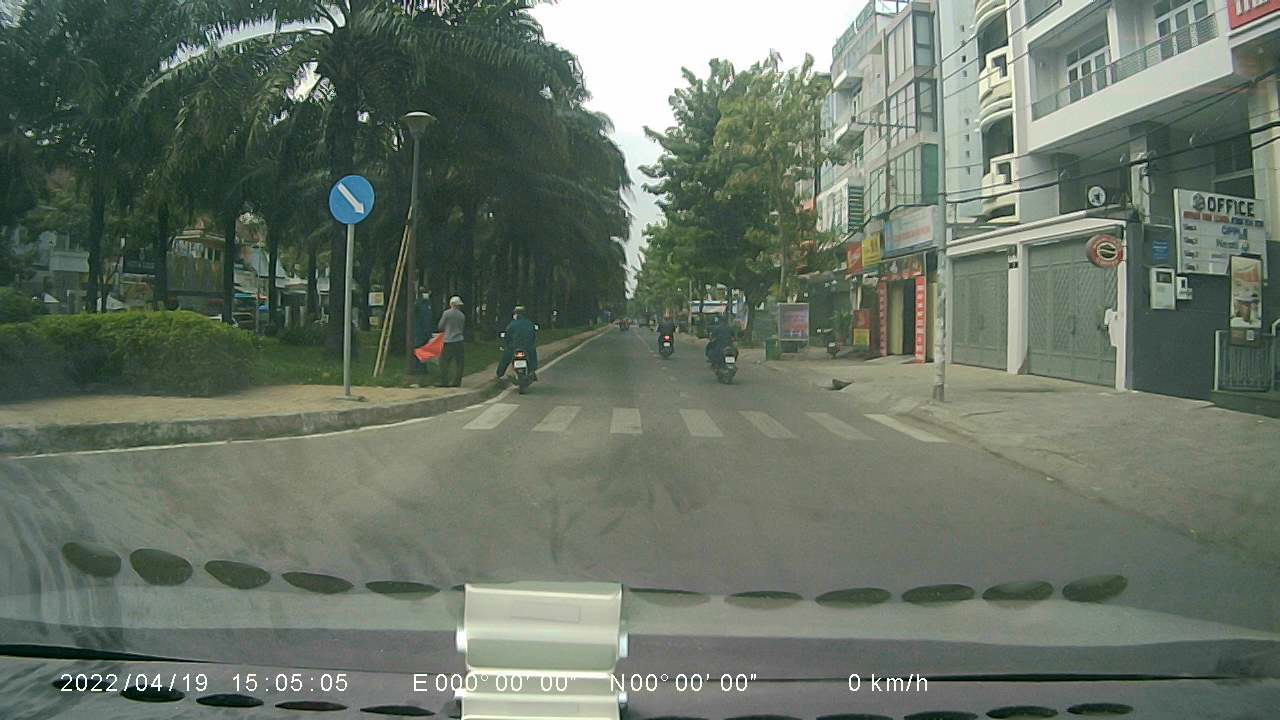Huong di phai re phai: (329, 172, 374, 225)
